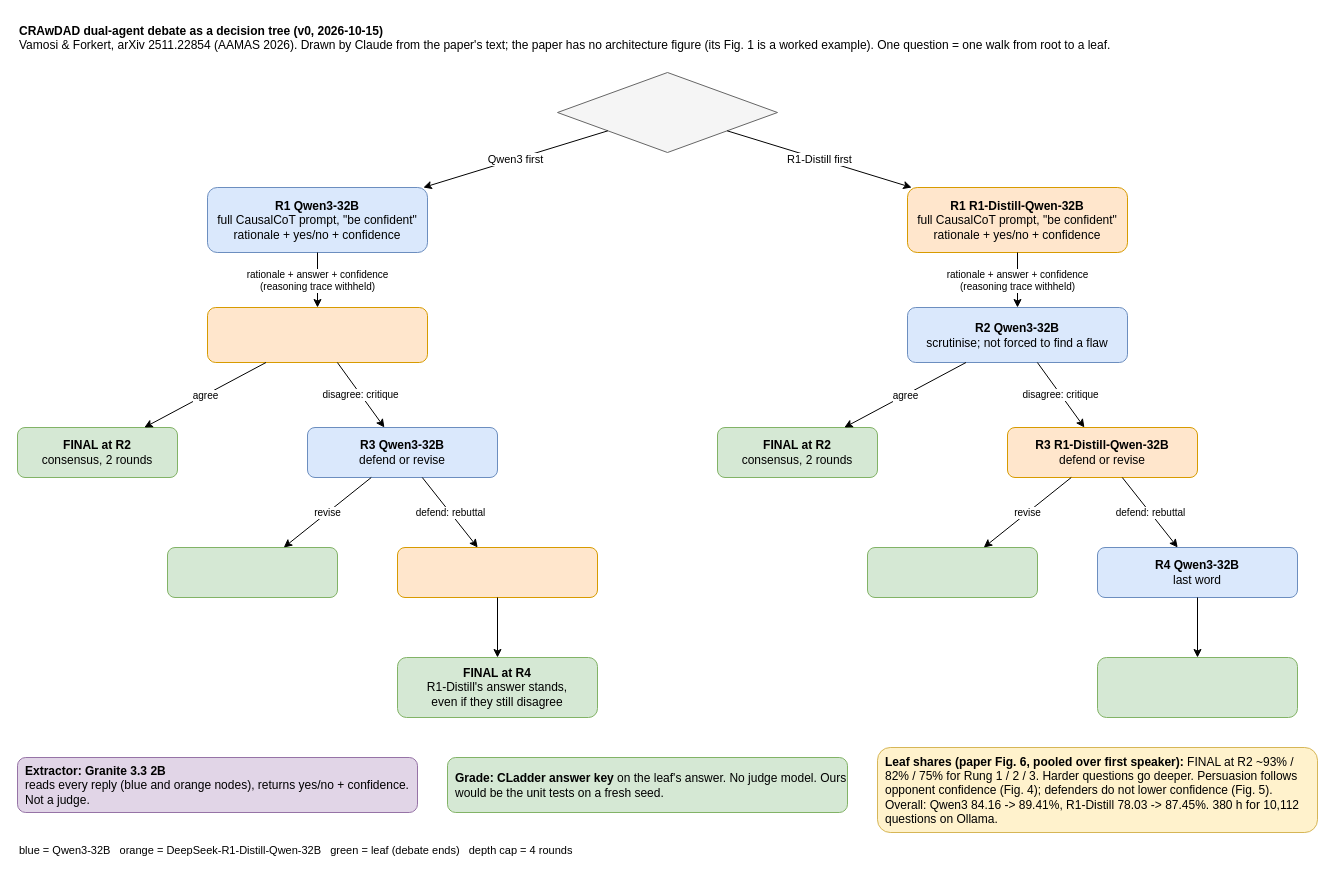
Some shapes in this 1335 by 879 pixel diagram are drawn without their labels. The box of each missing label's shape, as (x1, y1, x2, y2) in pixels:
CLadder question random first speaker (coin): (556, 72, 778, 152)
FINAL at R3 Qwen3 revised to agree: (166, 546, 338, 598)
FINAL at R3 R1-Distill revised to agree: (866, 546, 1038, 598)
FINAL at R4 Qwen3's answer stands, even if they still disagree: (1096, 656, 1298, 718)
R2 R1-Distill-Qwen-32B scrutinise; not forced to find a flaw: (206, 306, 428, 362)
R4 R1-Distill-Qwen-32B last word: (396, 546, 598, 598)
